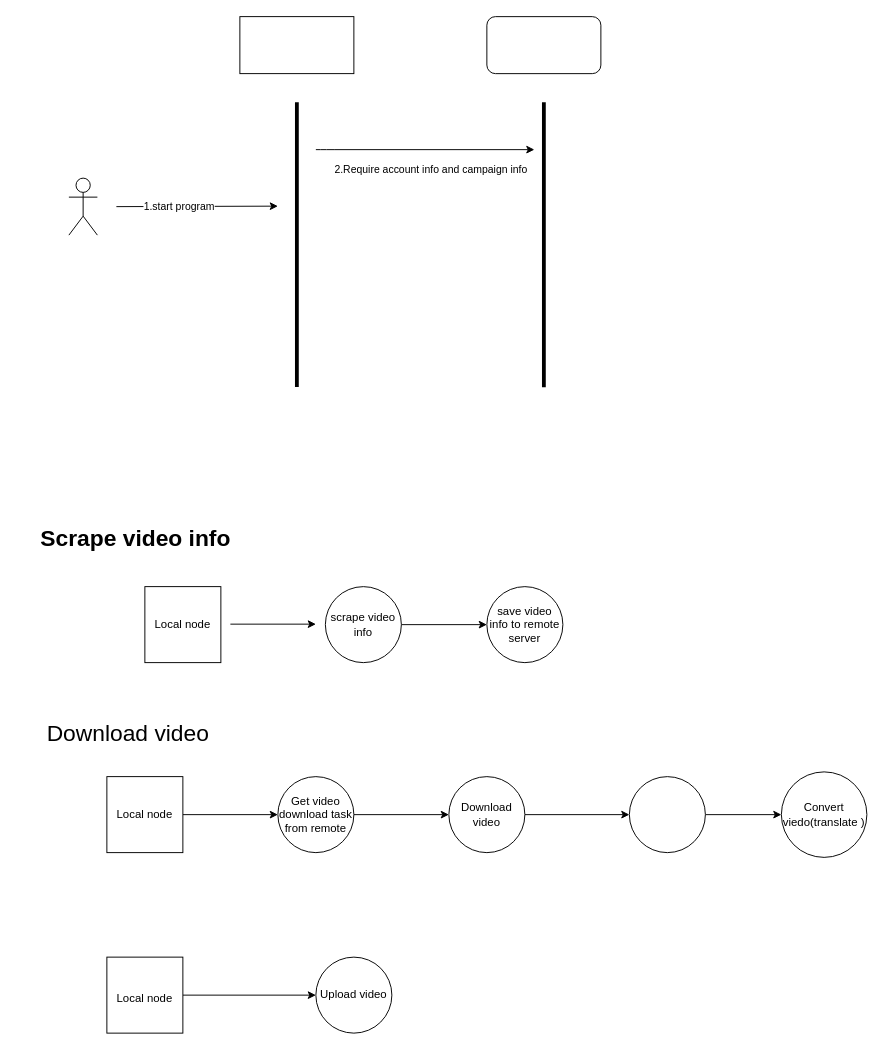
The diagram is 884 pixels wide and 1050 high, and some of its shapes have lost their labels. Here are the shapes that lost their labels. From the top down, the centre of each, then its label:
At point 296,45: "App client".
At point 543,45: "App master".
At point 82,206: "Actor".
At point 666,814: "Remove watermark".
